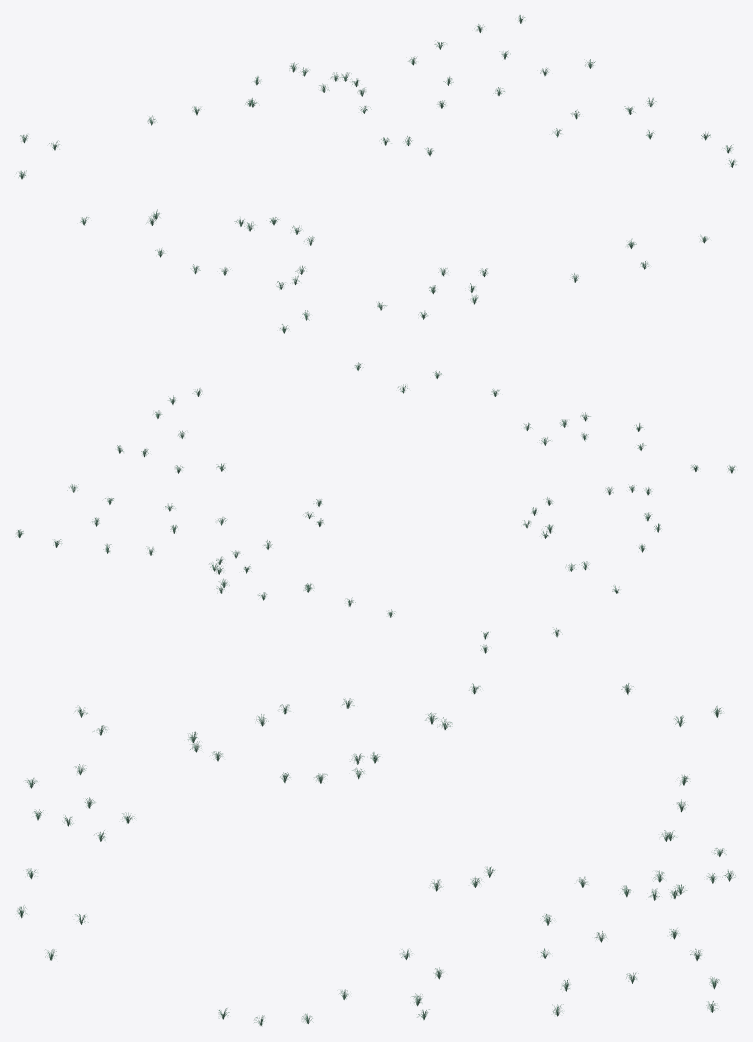
Rendered from xiyuan-vegetation-35-near.glb.
3 renders of one model, top to bottom at view 1: azimuth 30°, elevation 25°; view 2: azimuth 150°, elevation 25°; view 3: azimuth 270°, elevation 25°, orthographic. The views are drawn at different scales.
Visible parts, largest first — view 1: mondo grass; view 2: mondo grass; view 3: mondo grass.
Part boxes in pixels (x1=…): mondo grass: x1=16, y1=15, x2=736, y2=333; mondo grass: x1=16, y1=362, x2=735, y2=653; mondo grass: x1=17, y1=683, x2=735, y2=1026.
Size of the model in its own units: 32.93 by 0.4754 by 29.64.
